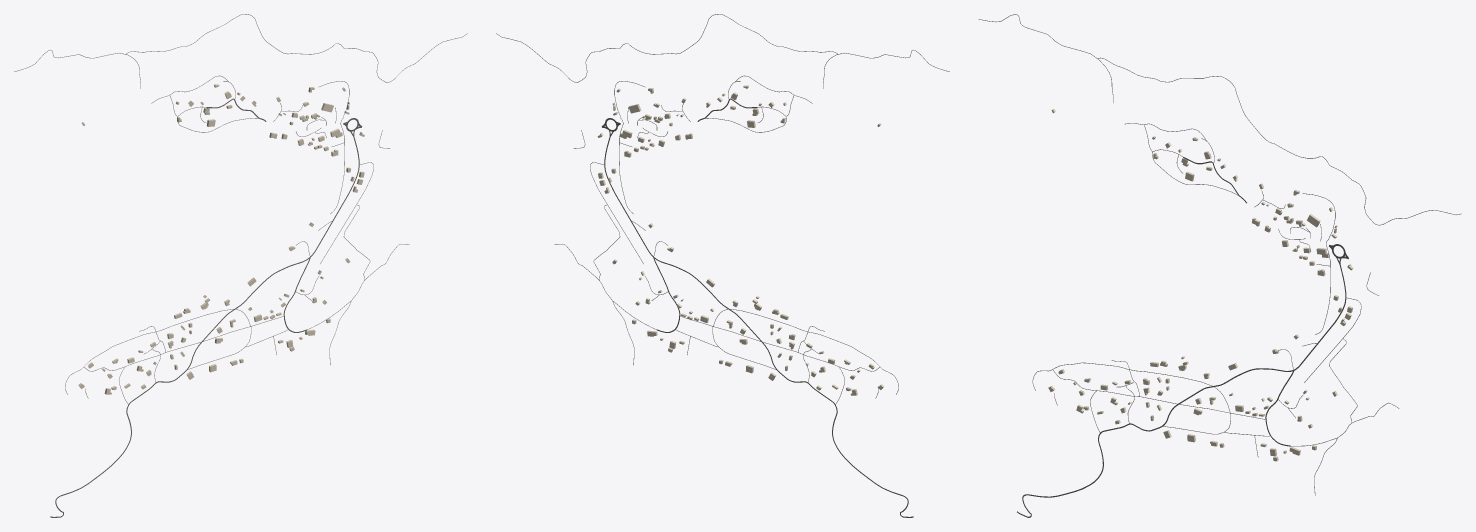
Rendered from historic-palestine-11_27_3533_3216.glb.
3 views of the same model, side by side, from view 1: azimuth 30°, elevation 25°; view 2: azimuth 150°, elevation 25°; view 3: azimuth 330°, elevation 25° (orthographic). The views are drawn at different scales.
Visible parts, largest first — view 1: Road; view 2: Road; view 3: Road.
Boxes of the visible parts, x1,y1,x2,y2 form: Road: (50, 137, 359, 517); Road: (604, 137, 913, 517); Road: (1017, 265, 1346, 517).
Size of the model in its own units: 1425 by 1411 by 8.7.
